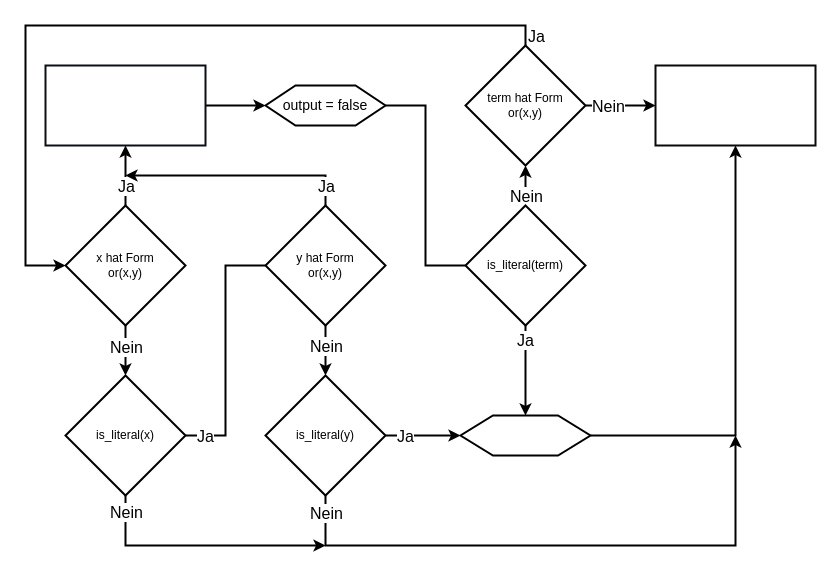
Image size: 833x571. Some labels were removed from this diagram. The centre of each missing label's shape, as x and y in pixels:
"gebe output zurück" goes at [735,105].
"is_clause (term)" goes at [125,105].
"output = true" goes at [525,435].
